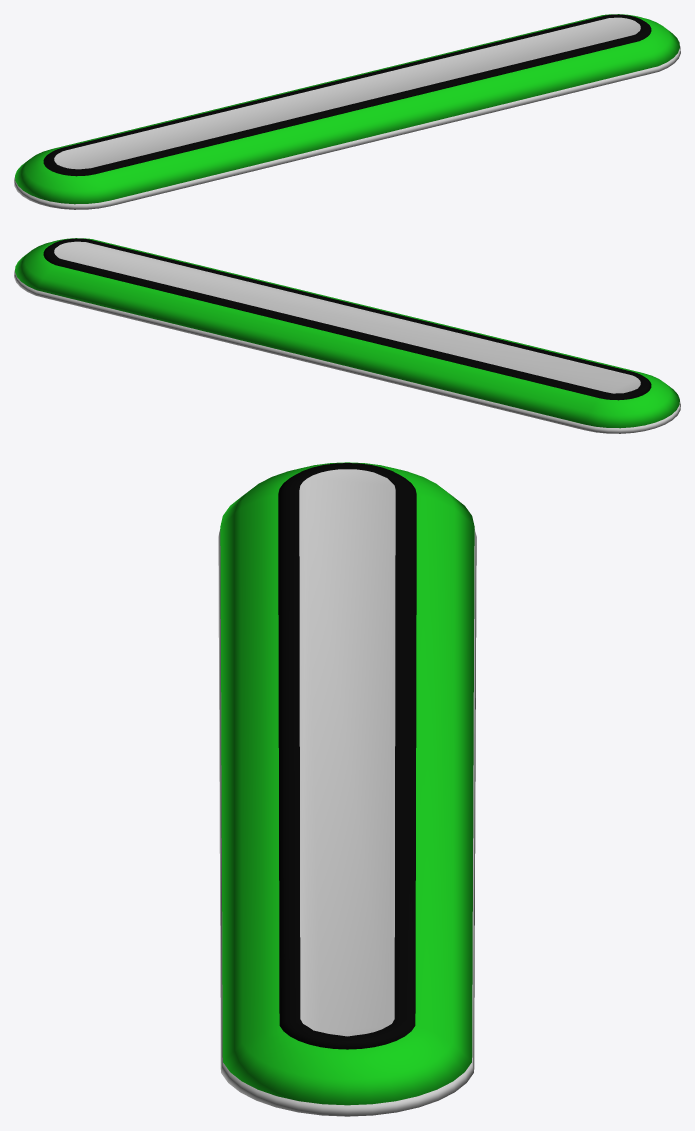
File: open_note_placeholder.obj
3 renders of one model, top to bottom at view 1: azimuth 30°, elevation 25°; view 2: azimuth 150°, elevation 25°; view 3: azimuth 270°, elevation 25°, orthographic. The views are drawn at different scales.
Parts seen in each view (by area): view 1: GH_Note:Mesh; view 2: GH_Note:Mesh; view 3: GH_Note:Mesh.
Boxes of the visible parts, <box> form: GH_Note:Mesh: <box>14,14,680,209</box>; GH_Note:Mesh: <box>14,238,680,433</box>; GH_Note:Mesh: <box>218,462,476,1116</box>.
Size of the model in its own units: 10.81 by 0.3745 by 1.86.
